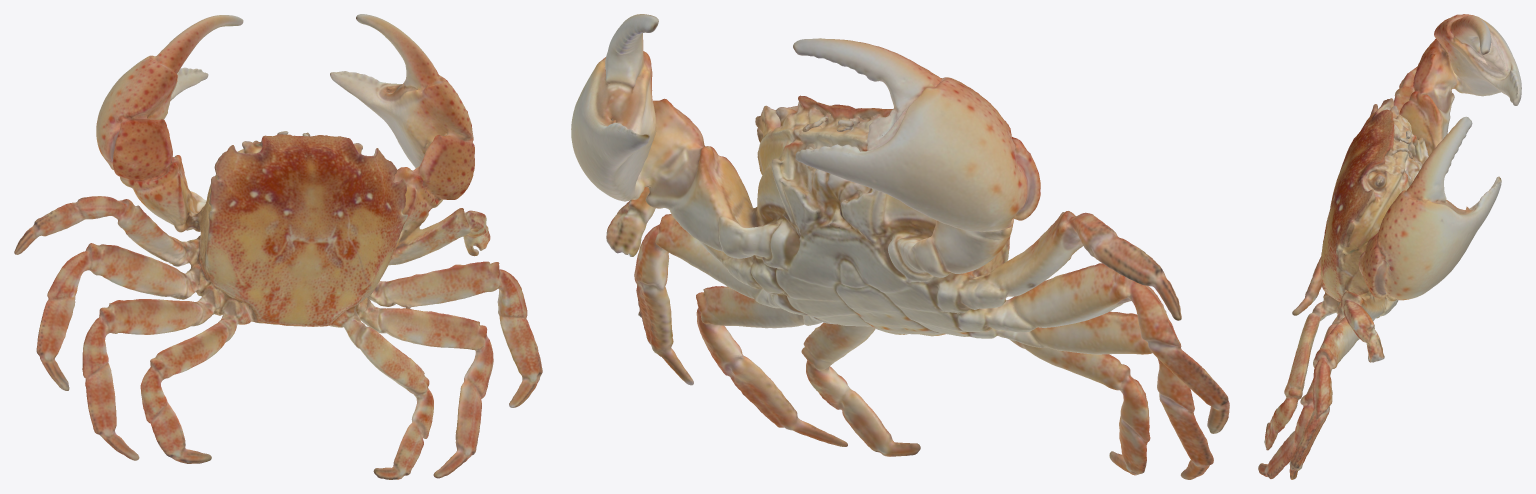
File: asian_shore_crab.glb
3 renders of one model, left to right at view 1: azimuth 30°, elevation 25°; view 2: azimuth 150°, elevation 25°; view 3: azimuth 270°, elevation 25°, orthographic. The views are drawn at different scales.
Parts seen in each view (by area): view 1: Object_2, Object_5, Object_4, Object_3, Object_6; view 2: Object_5, Object_3, Object_4, Object_6, Object_2; view 3: Object_2, Object_3, Object_6, Object_4, Object_5.
Boxes of the visible parts, x1,y1,x2,y2 form: Object_2: (14,14,541,407); Object_5: (69,15,542,478); Object_4: (37,18,515,479); Object_3: (105,18,452,414); Object_6: (16,15,533,479); Object_5: (572,38,1227,479); Object_3: (658,55,1149,475); Object_4: (635,25,1227,474); Object_6: (601,39,1180,475); Object_2: (571,14,1229,433); Object_2: (1290,15,1520,479); Object_3: (1300,15,1519,365); Object_6: (1260,14,1518,478); Object_4: (1267,54,1470,468); Object_5: (1258,14,1521,477).
Bounding box in the file's own units: 82.91 × 69.27 × 42.44.
Materials: 1 (1 with a texture image).
